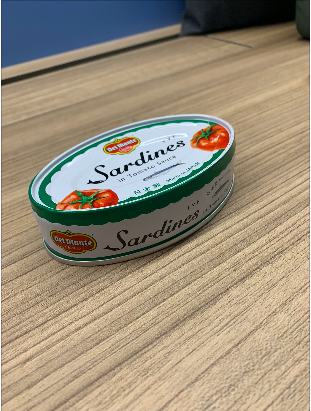Sardines_100-199g: (73, 136, 218, 220)
